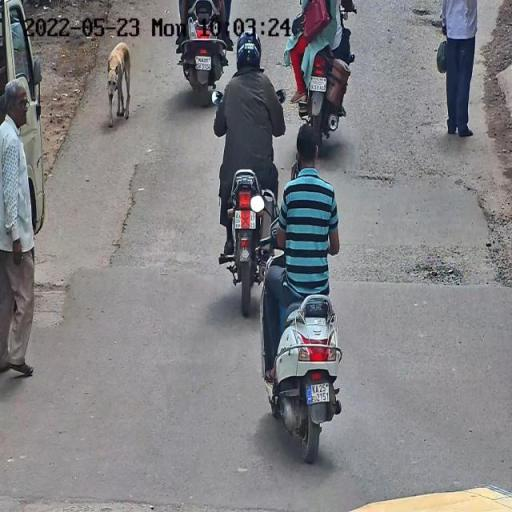numberplate: (304, 384, 332, 404)
using mobile: (291, 147, 300, 181)
